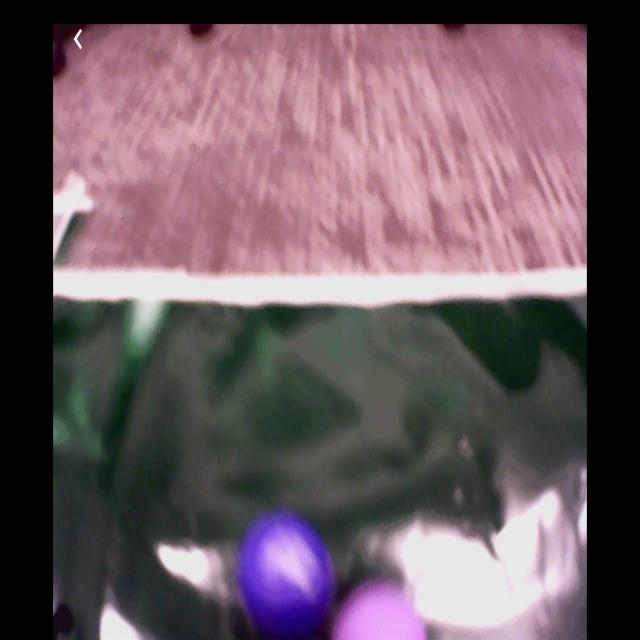ball: (237, 516, 331, 632), (331, 584, 429, 640)
